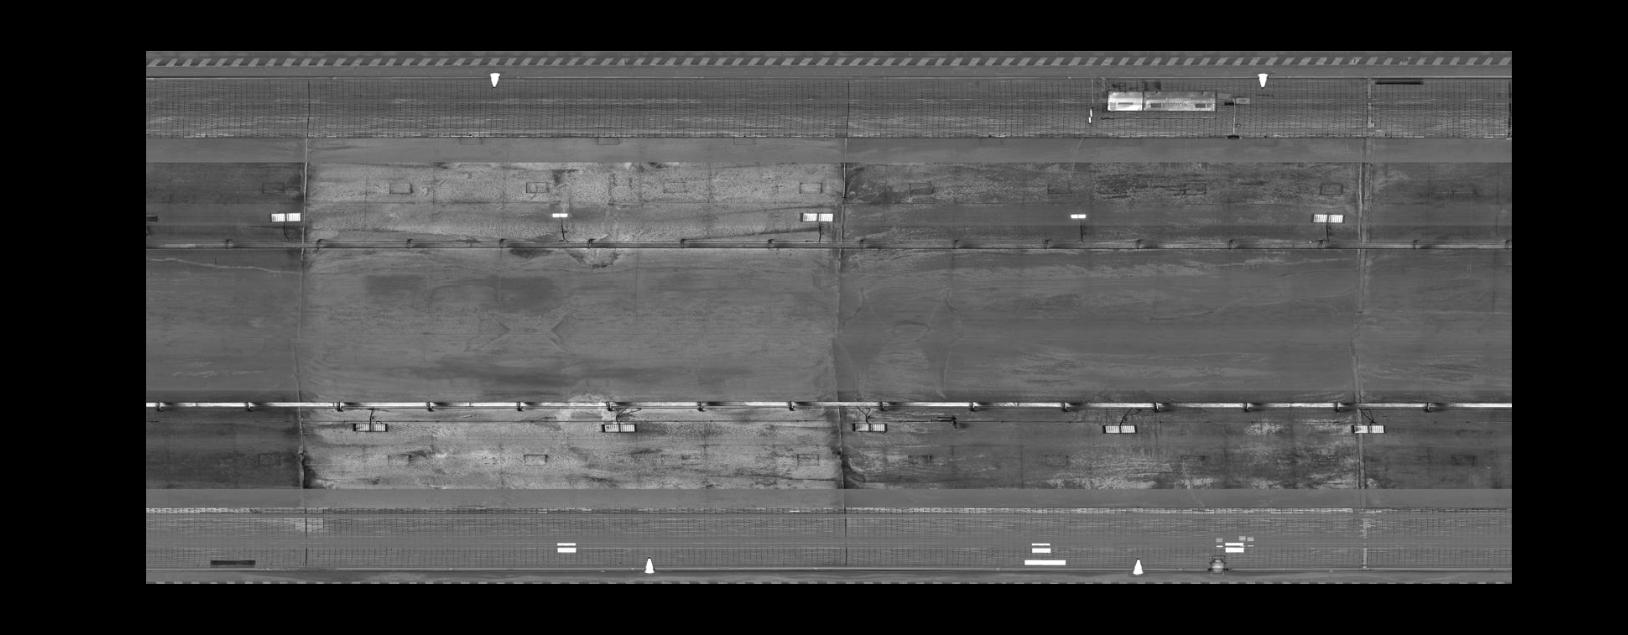light: (348, 419, 391, 435), (595, 421, 637, 437), (847, 419, 890, 435), (1098, 421, 1141, 437), (265, 208, 303, 223), (1348, 421, 1388, 436), (1307, 211, 1347, 225), (798, 209, 836, 223), (1065, 212, 1092, 220), (547, 211, 573, 219)
